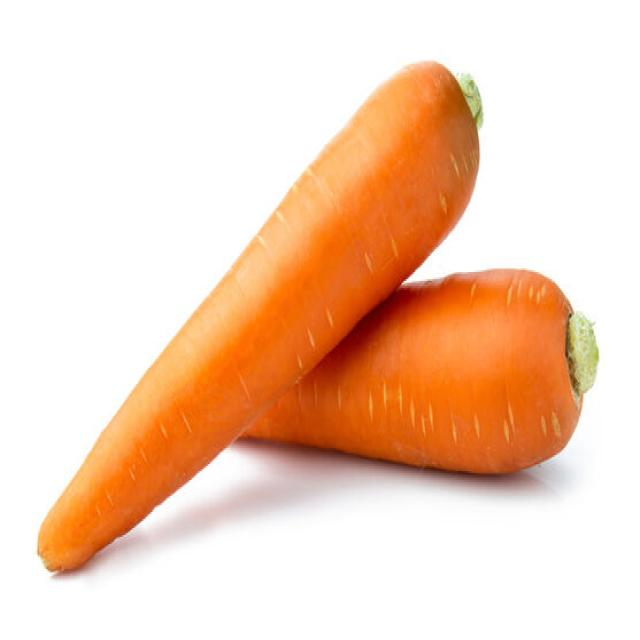Carrot: (35, 57, 482, 574), (237, 265, 598, 475)
